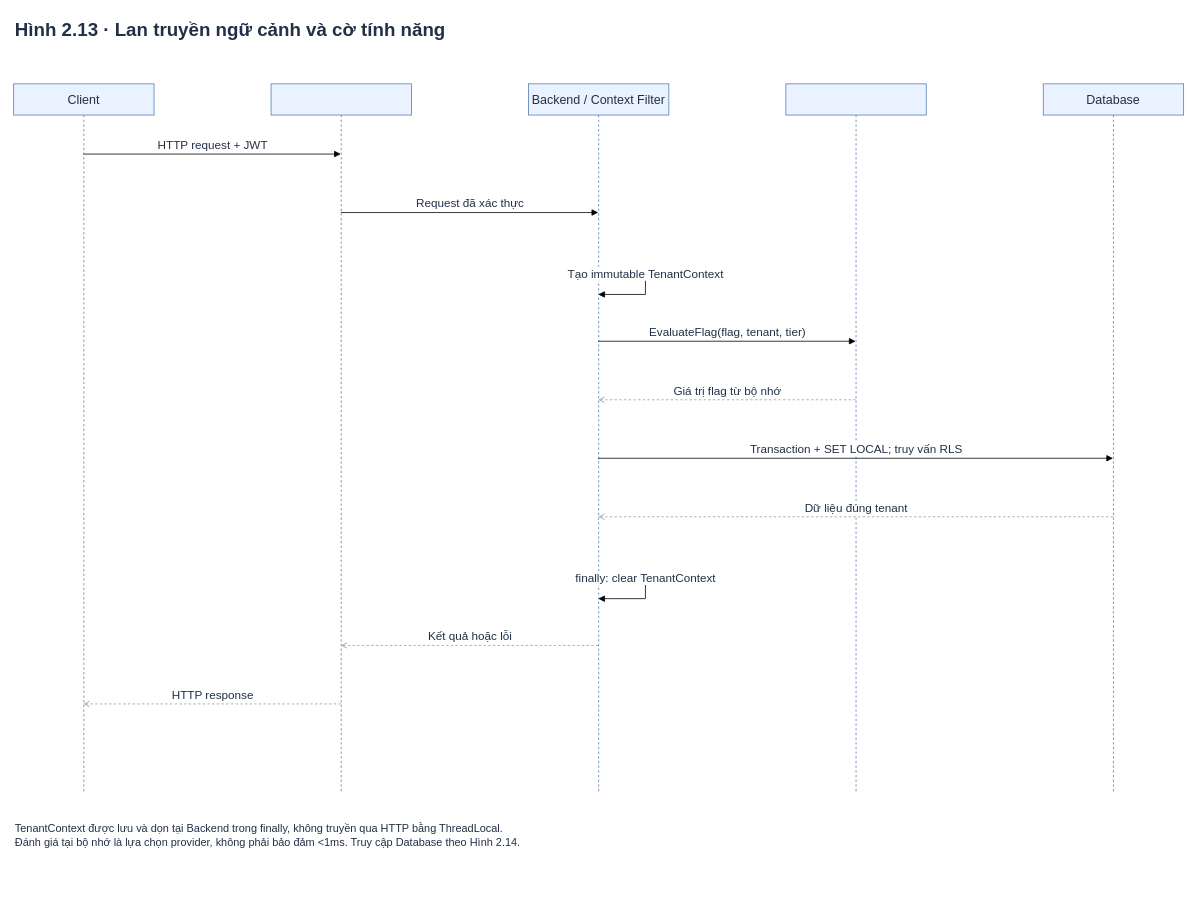
The diagram is 1197 pixels wide and 908 high, and some of its shapes have lost their labels. Each missing label, with the box of its shape:
API Gateway: (270, 83, 411, 794)
In-Memory Feature Engine: (785, 83, 926, 794)
